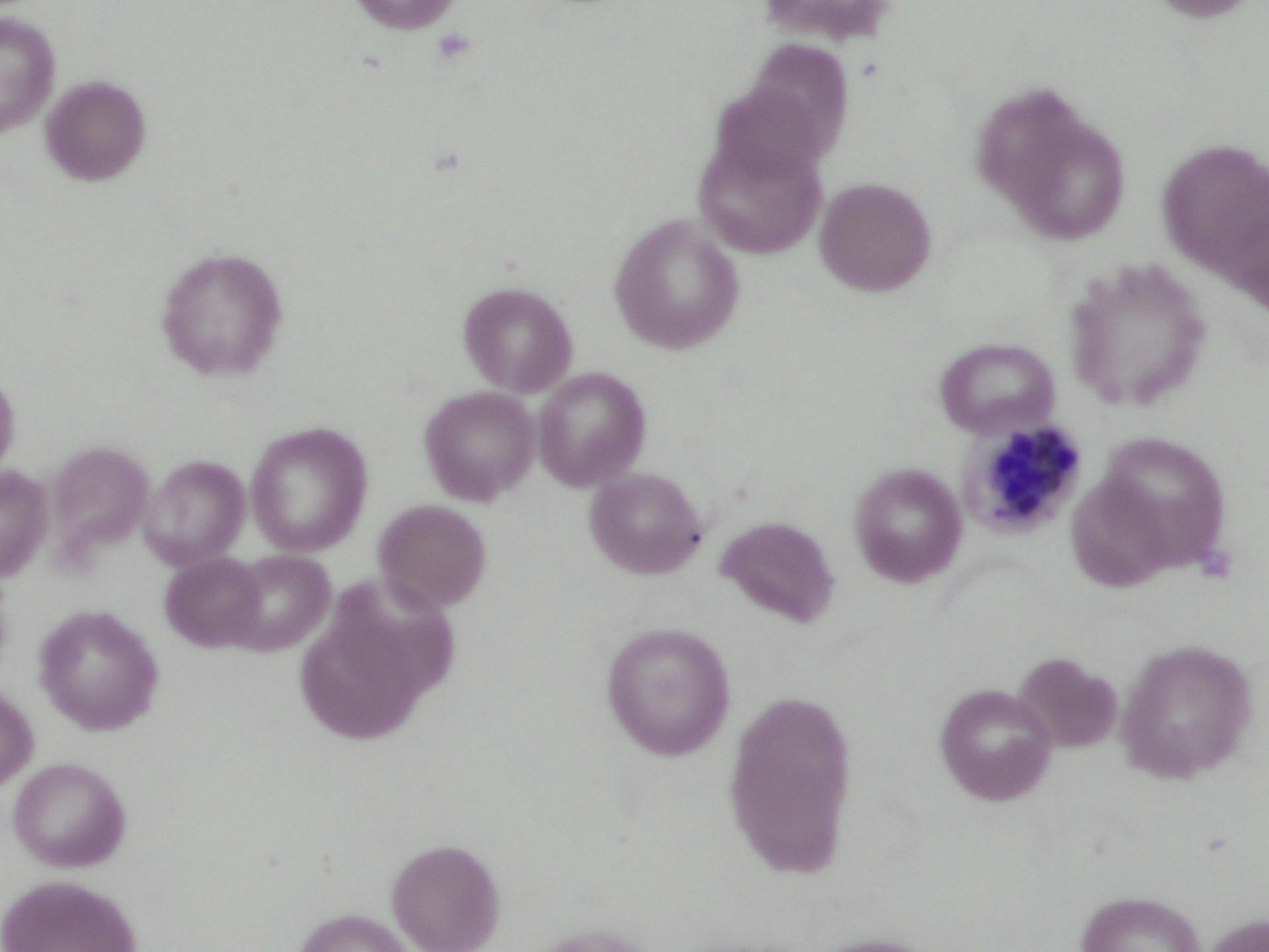Infected: (961, 423, 1081, 534)
Uninfected: (303, 587, 455, 739), (1071, 440, 1219, 586), (979, 88, 1121, 236), (732, 702, 848, 873), (1071, 266, 1203, 402), (1165, 146, 1268, 316), (1120, 649, 1245, 780), (619, 221, 742, 350), (167, 553, 328, 651), (607, 633, 724, 754), (250, 430, 364, 550), (38, 613, 155, 729), (165, 258, 279, 373), (703, 145, 823, 254), (426, 394, 535, 503), (856, 470, 963, 581), (13, 764, 126, 869), (593, 472, 708, 574), (942, 694, 1052, 800), (720, 523, 835, 624), (377, 504, 486, 610), (820, 185, 928, 291), (538, 373, 641, 482), (52, 449, 149, 562), (464, 289, 571, 390), (394, 848, 497, 952), (144, 460, 246, 564), (42, 80, 147, 180), (746, 41, 849, 141), (718, 89, 830, 179), (941, 346, 1055, 434), (1021, 658, 1117, 749), (3, 883, 130, 949)
